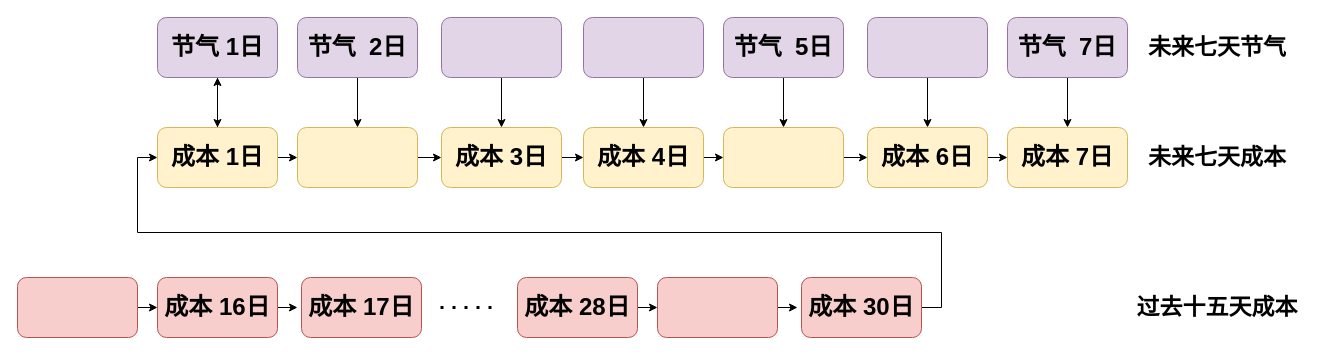
Image size: 1320x355. Some labels were removed from this diagram. Each missing label, with the centre of its shape:
成本 15日: point (77, 307)
成本 29日: point (717, 307)
成本 2日: point (357, 157)
成本 5日: point (783, 157)
节气 3日: point (501, 47)
节气 4日: point (643, 47)
节气 6日: point (927, 47)
